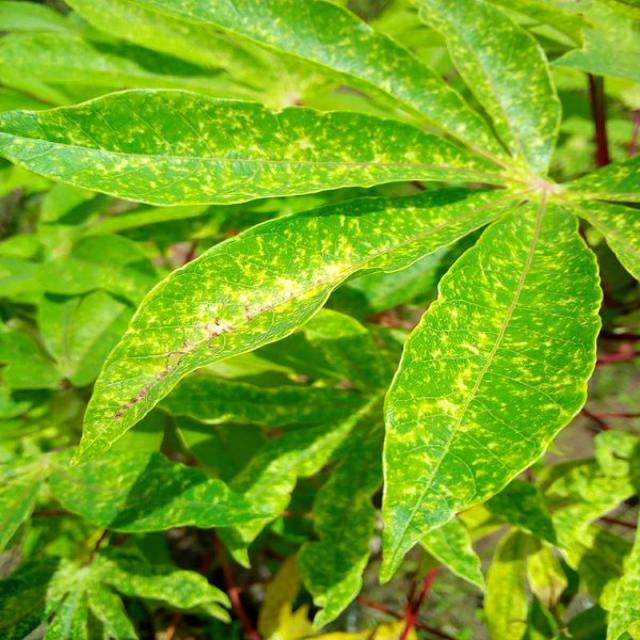cassava leaf: (0, 0, 637, 628), (68, 182, 520, 468), (377, 189, 603, 591)
